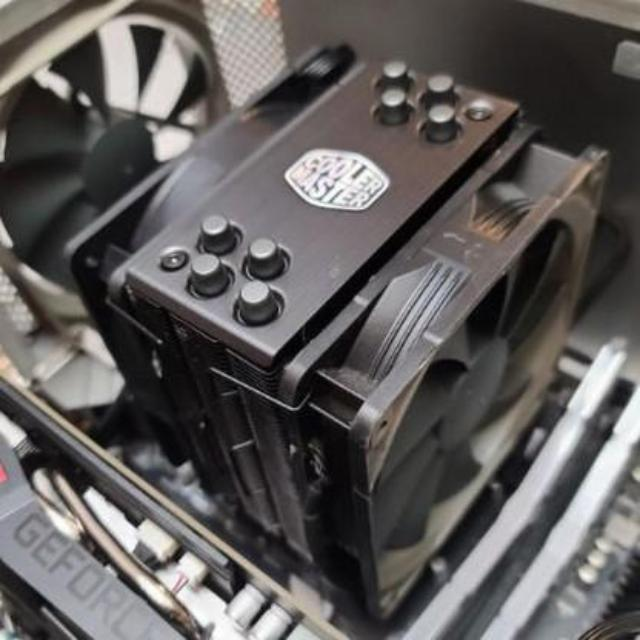CPU_Fan: (70, 32, 593, 594)
